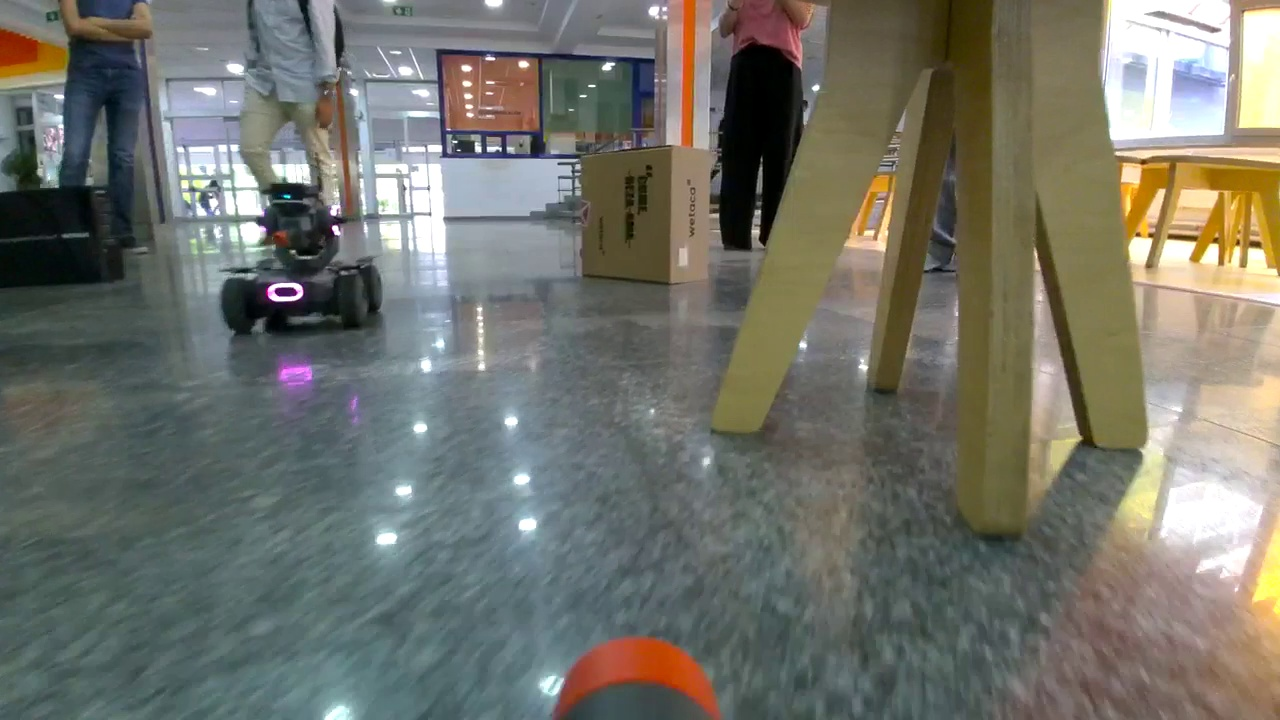robot: (225, 197, 386, 337)
